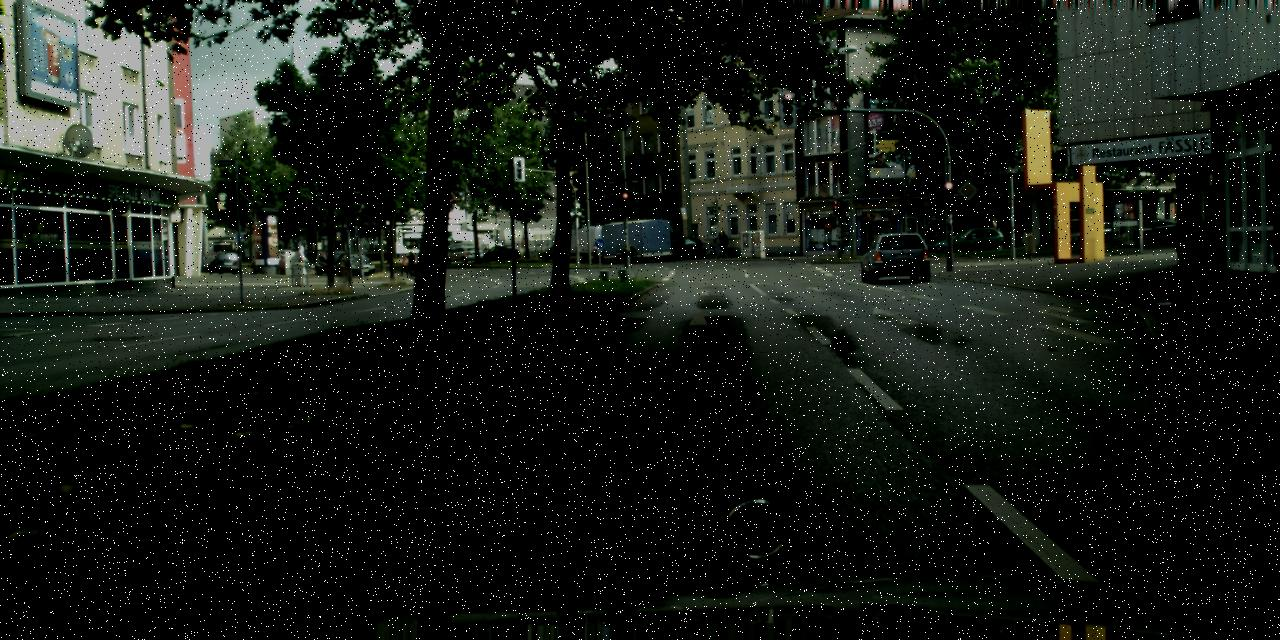ped: (406, 251, 416, 278), (714, 231, 724, 257), (719, 231, 729, 257), (1018, 228, 1027, 252), (399, 253, 408, 276)
